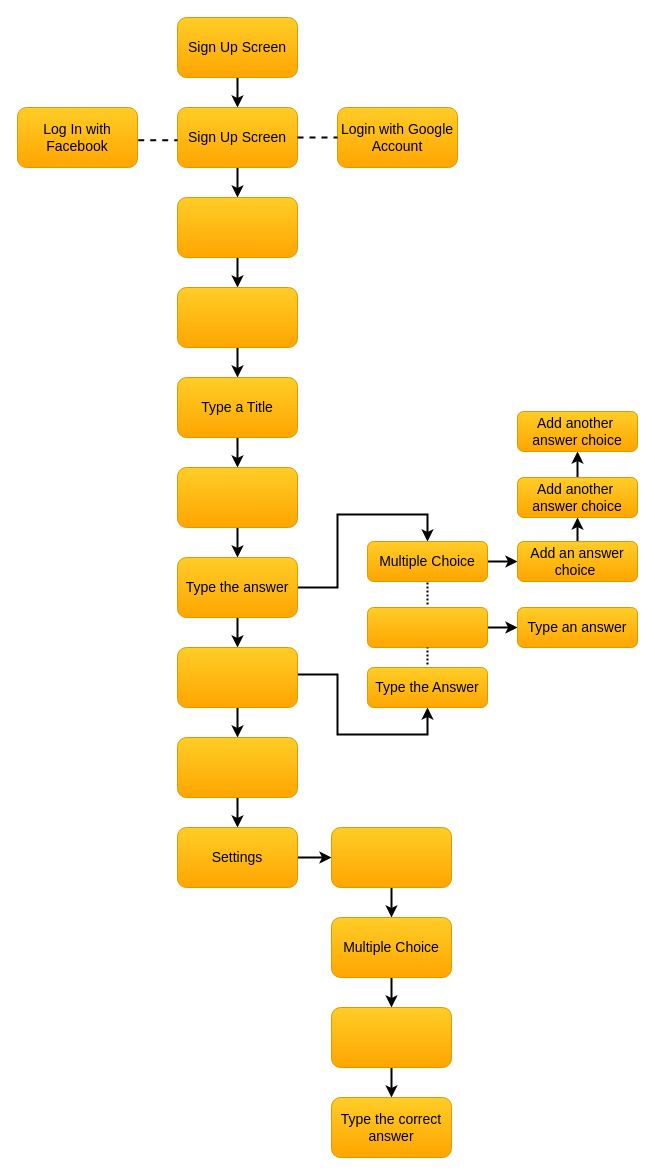
Image size: 655x1175. Some labels were removed from this diagram. Here are the shapes that lost their labels. From the top down, the centre of each, then its label:
(237,227): Open App
(237,317): Enter a Topic Heading
(237,497): Type a Question
(427,627): Flip Cards
(237,677): Click/Tap on a plus (+) button to add a card
(237,767): Click on a check mark when done
(391,857): Random
(391,1037): Flip a Card
